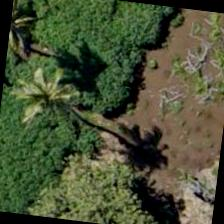Kelapa_Sawit: (0, 28, 88, 128), (5, 0, 66, 72)
